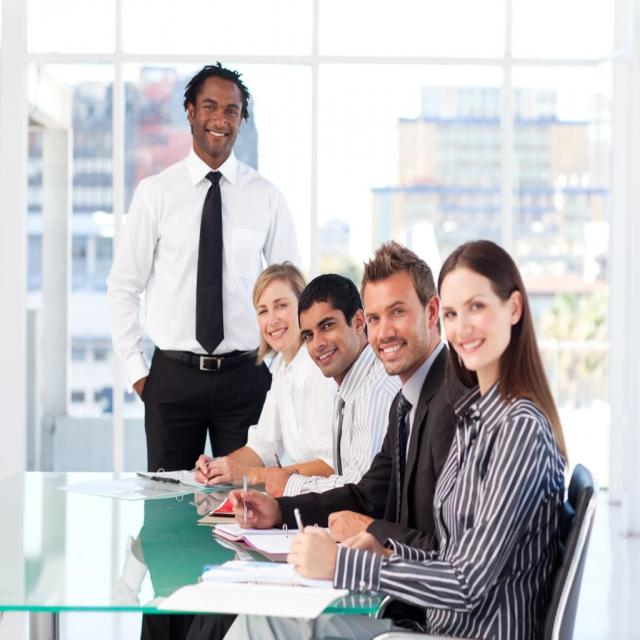Face: (364, 271, 438, 385), (440, 271, 525, 367), (188, 65, 256, 168), (294, 291, 357, 384), (253, 280, 306, 344)
